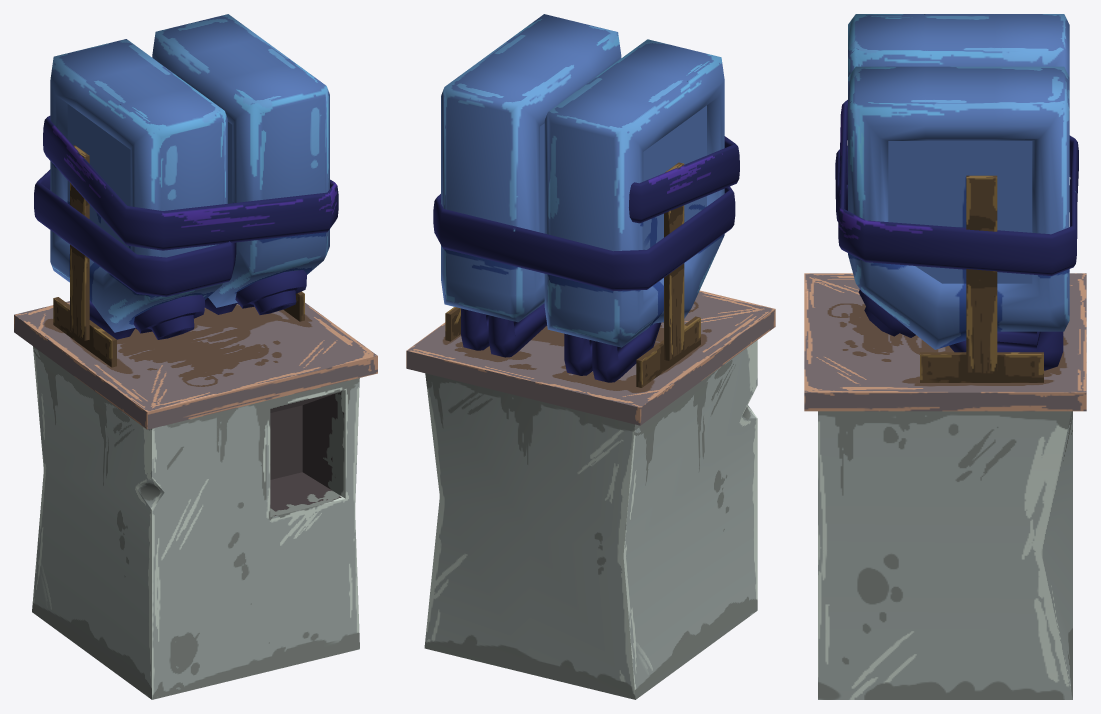
The model's file is Water_Cooler_1.glb.
3 views of the same model, side by side, from view 1: azimuth 30°, elevation 25°; view 2: azimuth 150°, elevation 25°; view 3: azimuth 270°, elevation 25° (orthographic). The views are drawn at different scales.
Visible parts, largest first — view 1: Water_Cooler_1; view 2: Water_Cooler_1; view 3: Water_Cooler_1.
Part boxes in pixels (x1,y1,x2,y2): Water_Cooler_1: (14, 14, 377, 699); Water_Cooler_1: (406, 14, 775, 699); Water_Cooler_1: (804, 14, 1086, 699).
Size of the model in its own units: 0.4967 by 1.14 by 0.4967.
1 material, 1 textured.
